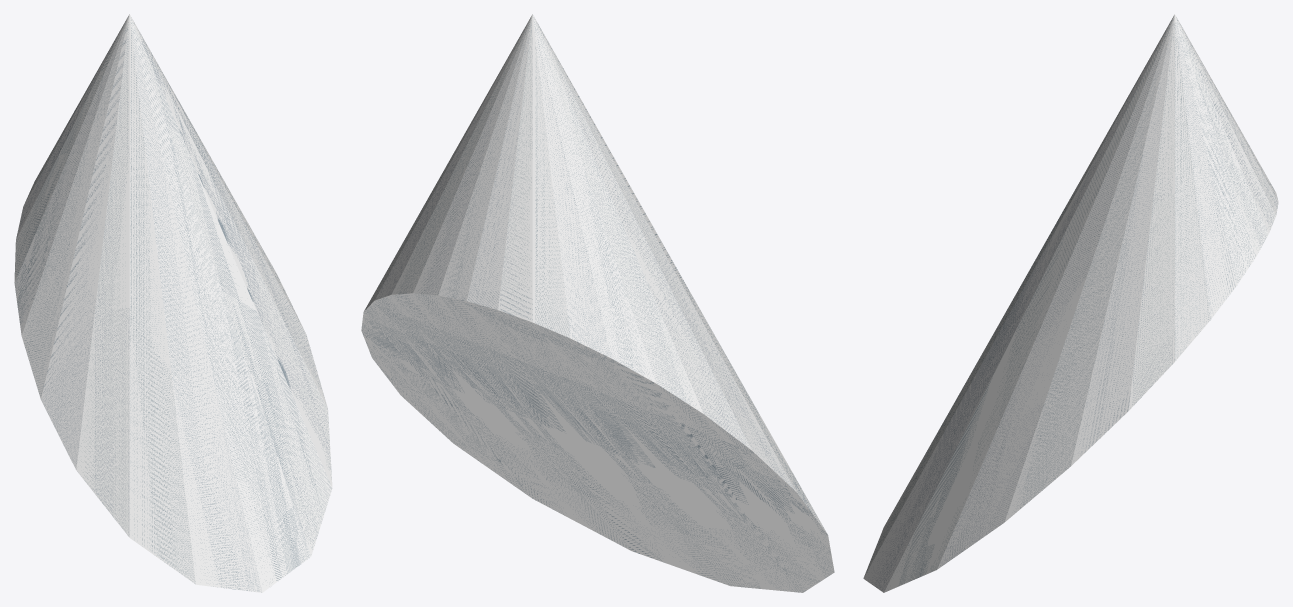
3 views of the same model, side by side, from view 1: azimuth 30°, elevation 25°; view 2: azimuth 150°, elevation 25°; view 3: azimuth 270°, elevation 25° (orthographic). The views are drawn at different scales.
Visible parts, largest first — view 1: Model; view 2: Model; view 3: Model.
Part boxes in pixels (x1,y1,x2,y2): Model: (14, 14, 332, 592); Model: (361, 14, 834, 592); Model: (863, 14, 1278, 592).
Bounding box in the file's own units: 3.46 × 6 × 4.
